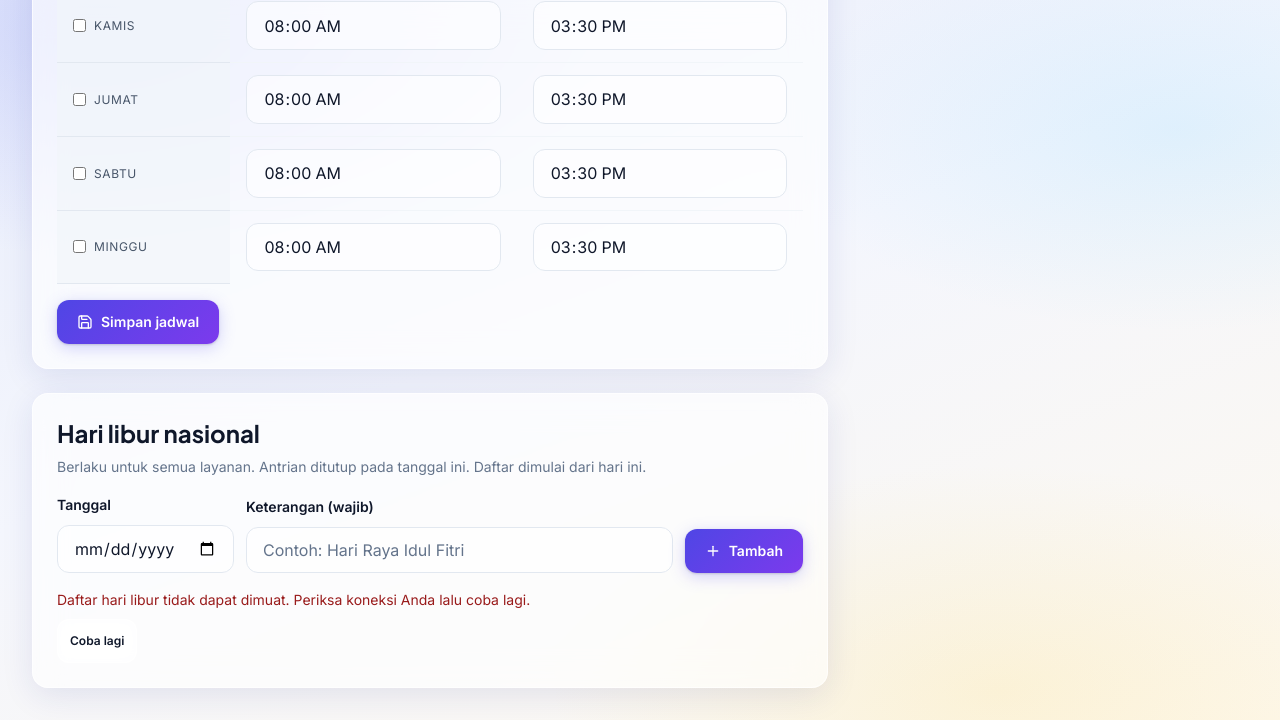
admin jadwal: jadwal_standby + hari libur nasional › gagal memuat hari libur -> galat + "Coba lagi", bukan pesan "Belum ada hari libur"
(page scrolled)
Expected: the text "Daftar hari libur tidak dapat dimuat" is shown, [57,591,530,608]
Click the button "Coba lagi". click: (97, 641)
box: [57,619,137,663]
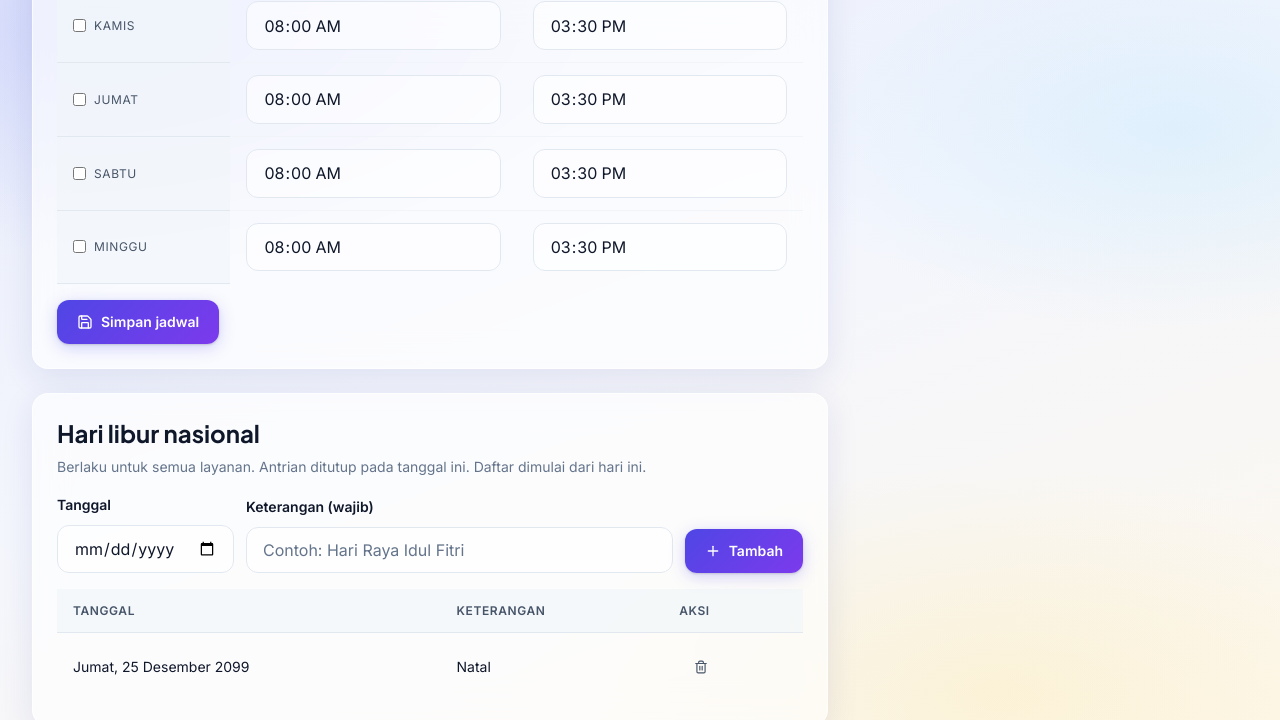
Expected: the text "Natal" is shown, [440,632,663,701]
Expected: the text "Daftar hari libur tidak dapat dimuat" is gone
